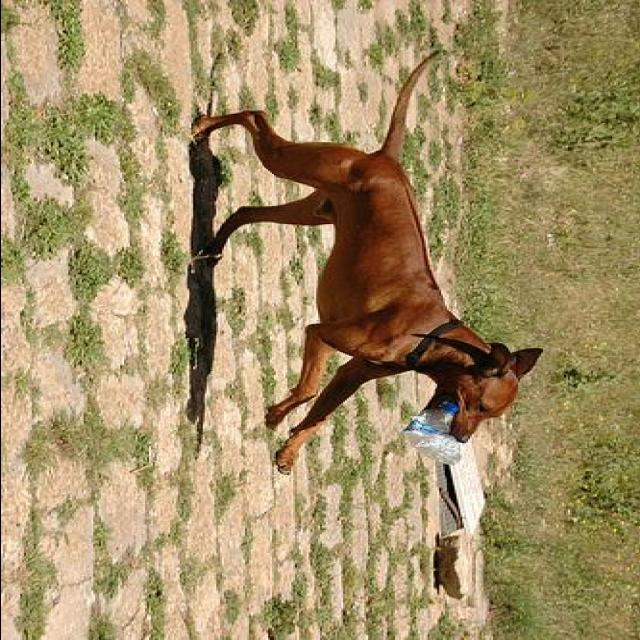rhodesian_ridgeback: (177, 44, 542, 478)
